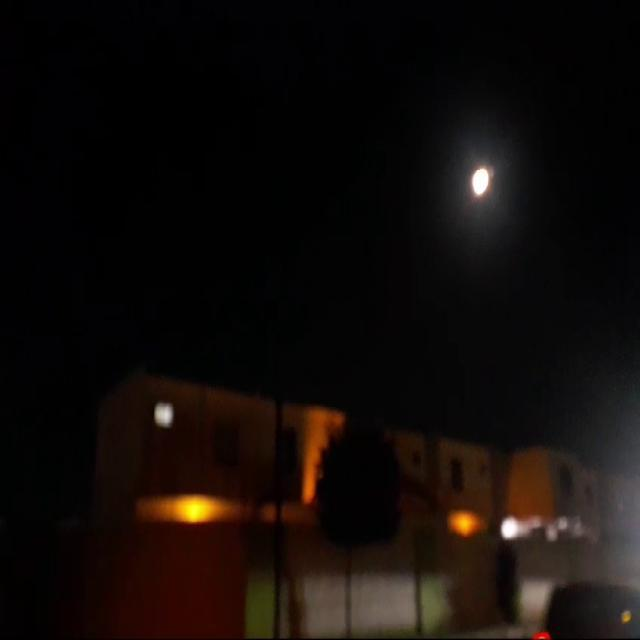moon: (474, 160, 494, 194)
